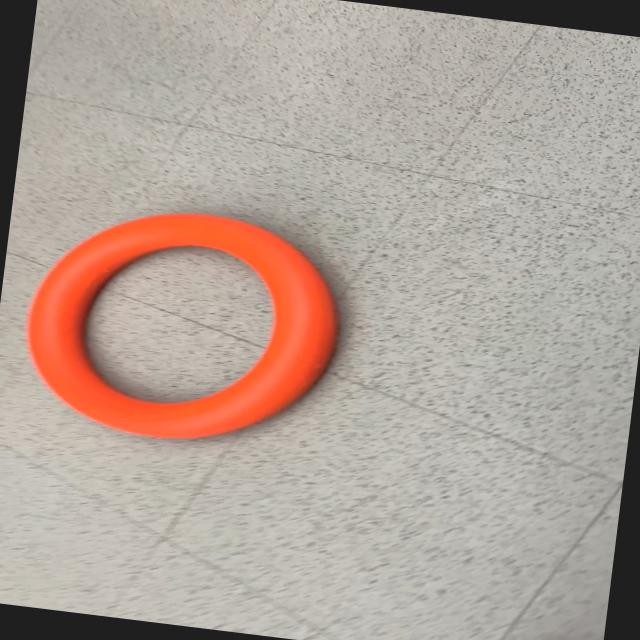note: (14, 192, 352, 460)
